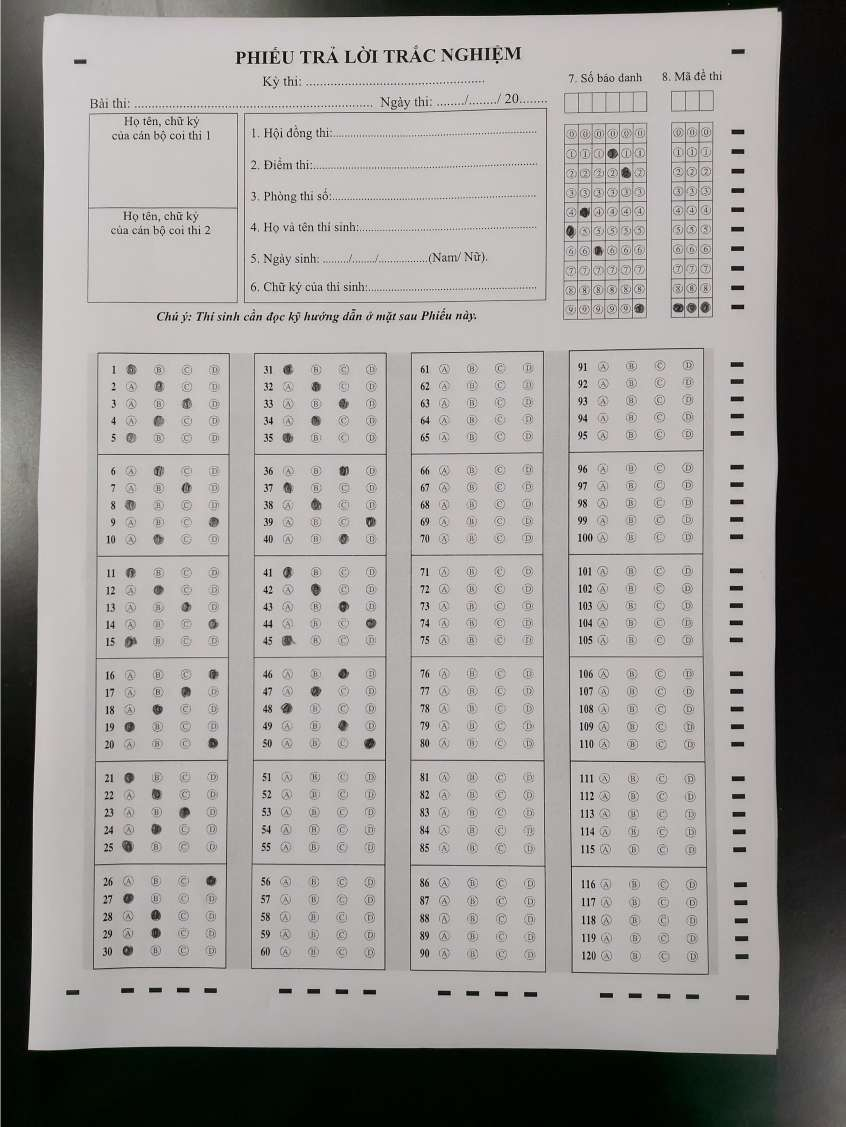bot_left: (7, 1028, 53, 1071)
bot_right: (752, 1031, 796, 1078)
top_left: (27, 1, 73, 39)
top_right: (749, 1, 797, 30)
